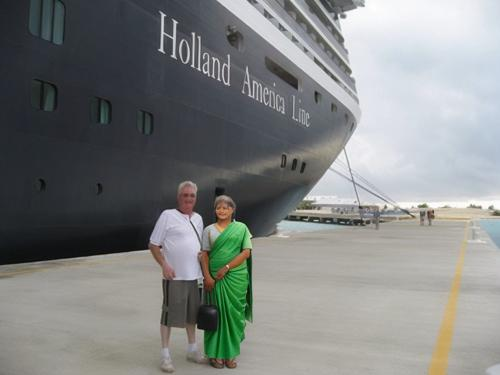boat: (2, 3, 369, 259)
person: (149, 179, 208, 375)
person/foot: (187, 350, 210, 366), (160, 355, 174, 373)
person/hand: (162, 266, 176, 281), (198, 251, 207, 262)
person/head: (177, 181, 198, 210)
pottedplant: (203, 201, 252, 368)
